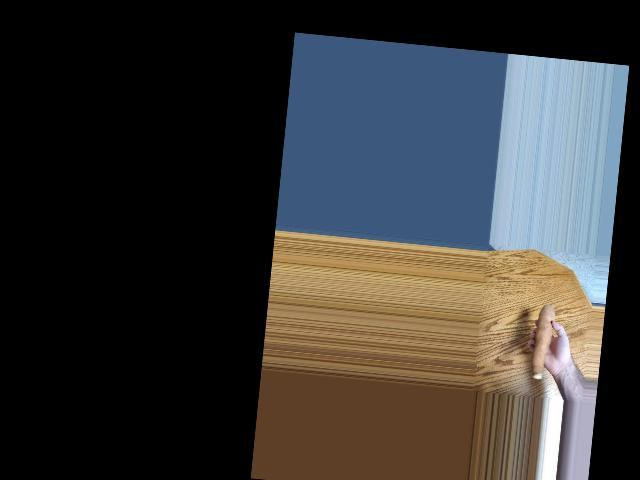sweet_potato: (526, 303, 552, 374)
